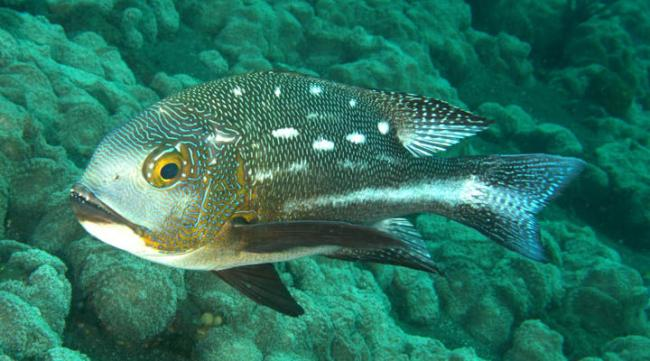fish: (71, 71, 588, 318)
